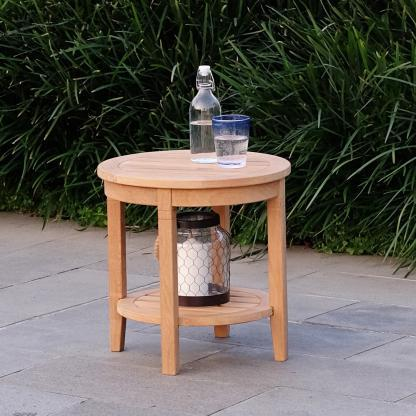table: (94, 146, 294, 377)
